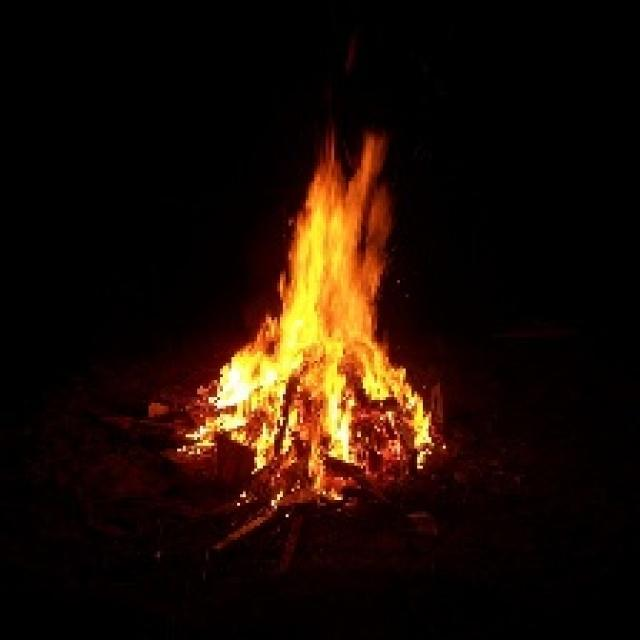Fire: (226, 138, 398, 431)
